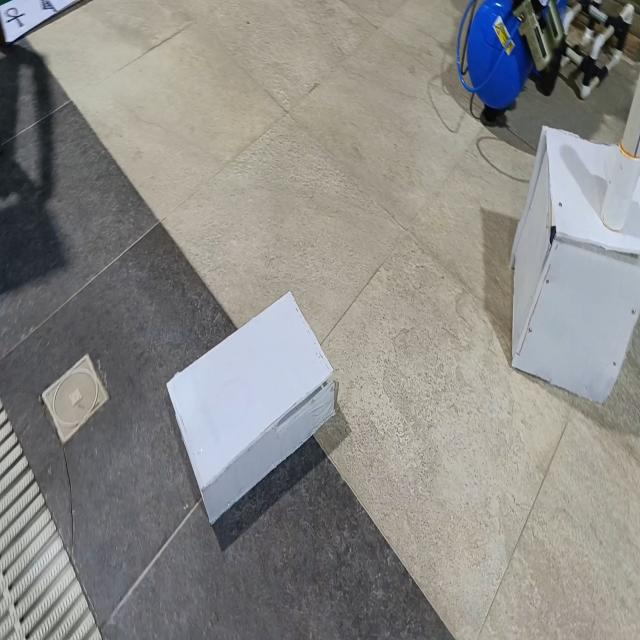Cube: (508, 123, 639, 404)
Cuboid: (165, 289, 338, 525)
